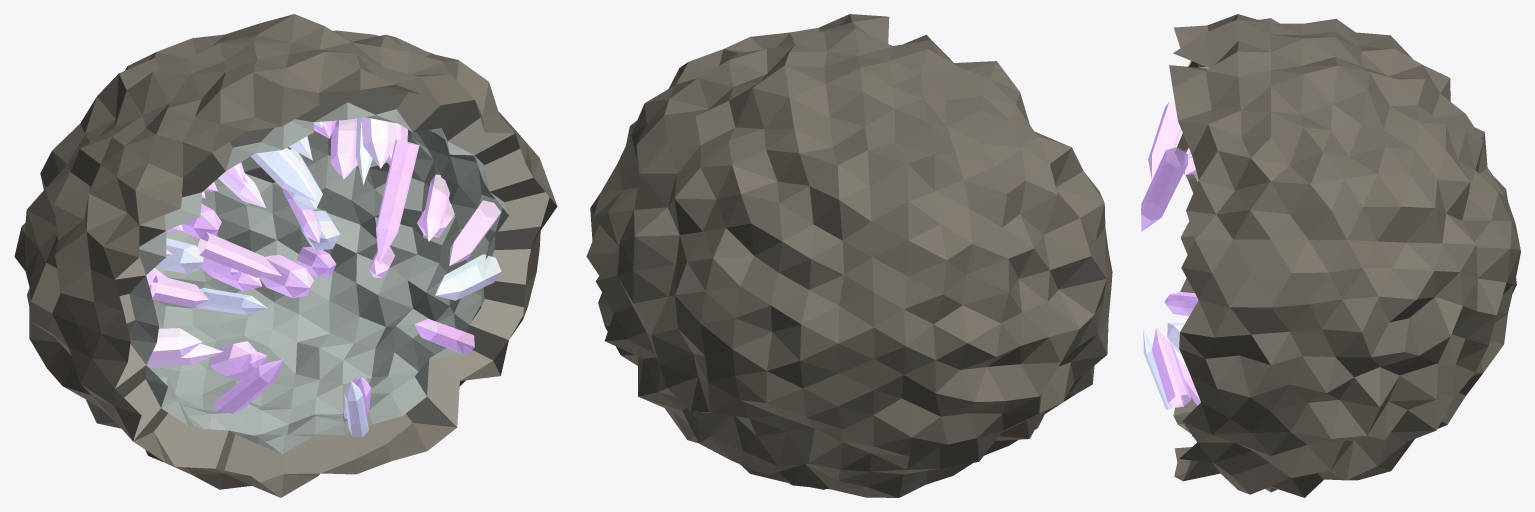
Rendered from geode_crystal.glb.
The picture shows the model from 3 angles, left to right: view 1: azimuth 30°, elevation 25°; view 2: azimuth 150°, elevation 25°; view 3: azimuth 270°, elevation 25°; orthographic projection.
Parts seen in each view (by area): view 1: Geode crystal; view 2: Geode crystal; view 3: Geode crystal.
Part boxes in pixels (x1,y1,x2,y2): Geode crystal: (14, 14, 557, 497); Geode crystal: (586, 14, 1112, 497); Geode crystal: (1141, 14, 1520, 497).
Size of the model in its own units: 2.11 by 1.77 by 1.46.
